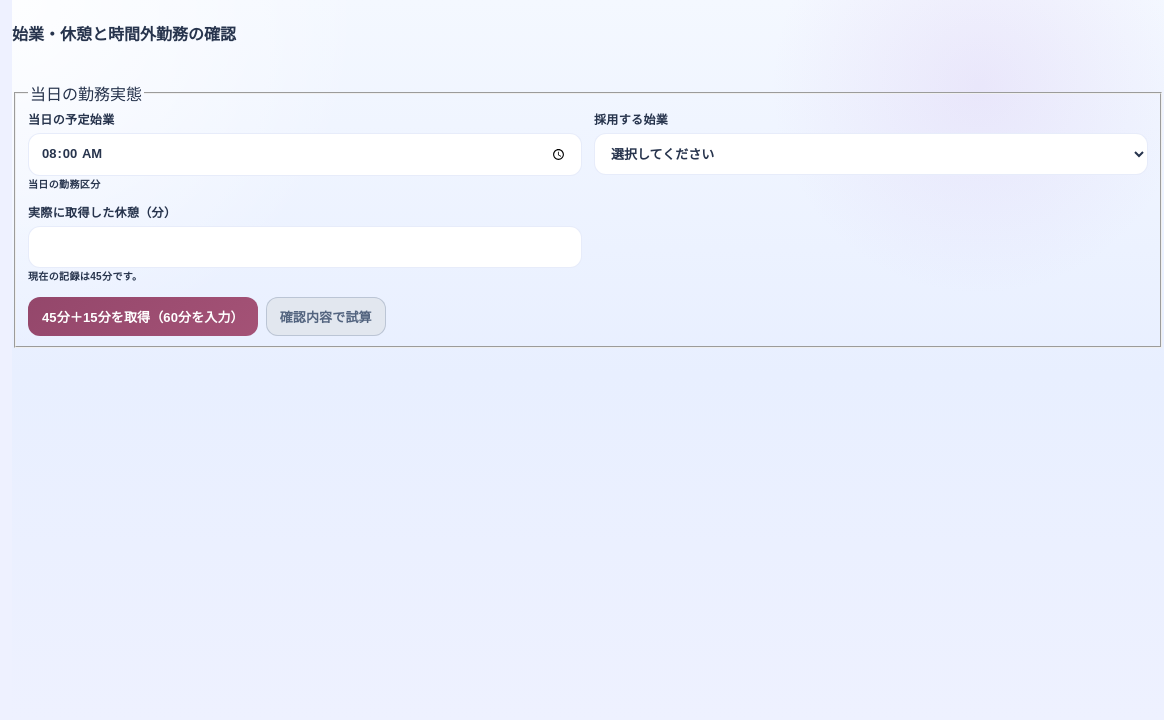
休憩不足の日次確認 › 試算後の入力変更で確認を取り消し、古いトークンで保存できない
This screenshot has width=1164, height=720.
Select "予定・原打刻の計算ルールを使う" in the dropdown labelled "採用する始業" at (871, 154), box [594, 133, 1148, 175]
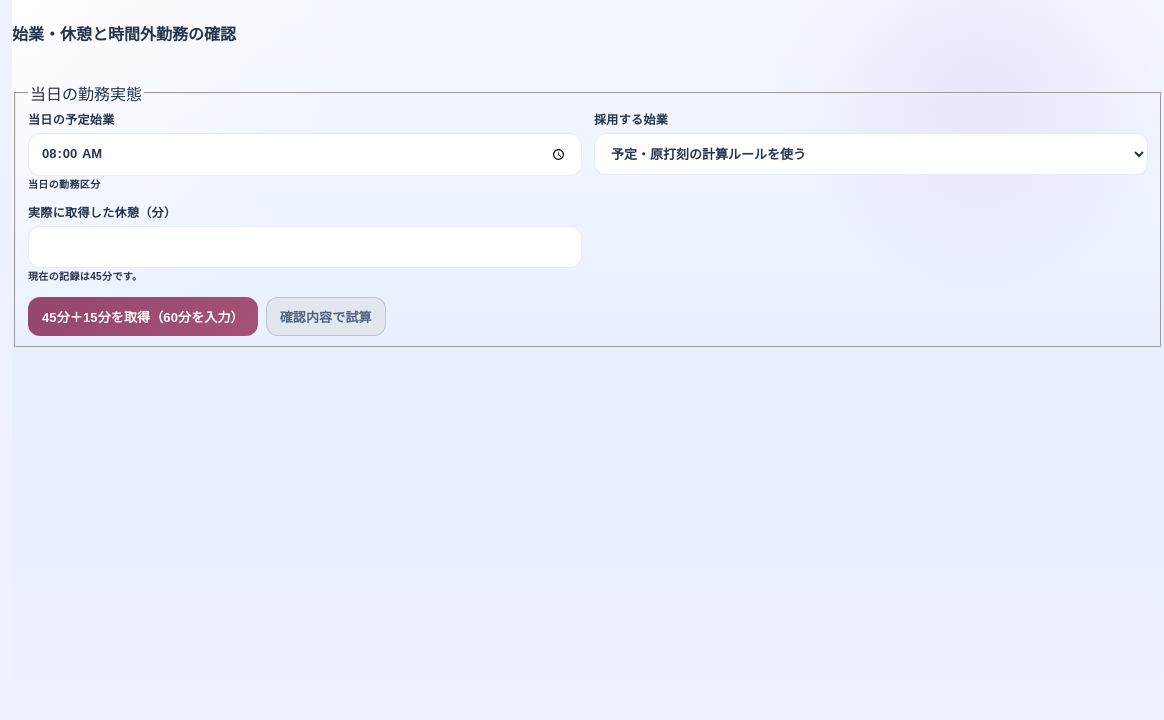
Click the button "45分＋15分を取得（60分を入力）" at (143, 316), box [28, 297, 258, 336]
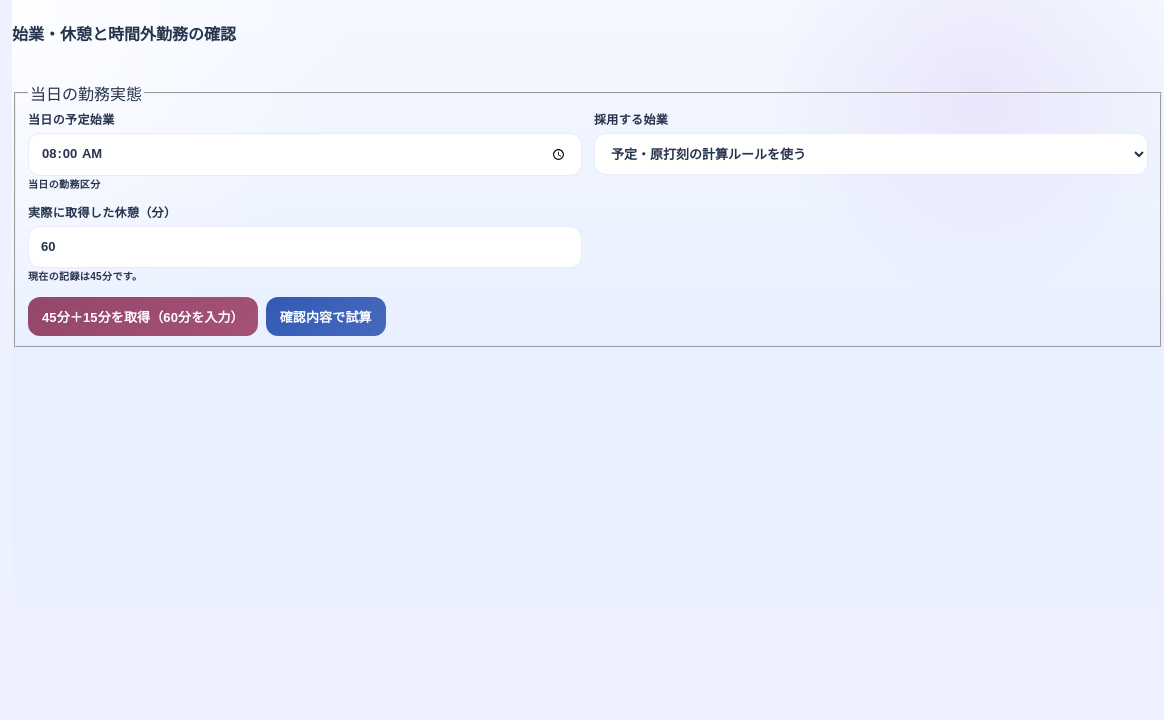
Click the button "確認内容で試算" at (326, 316), box [266, 297, 386, 336]
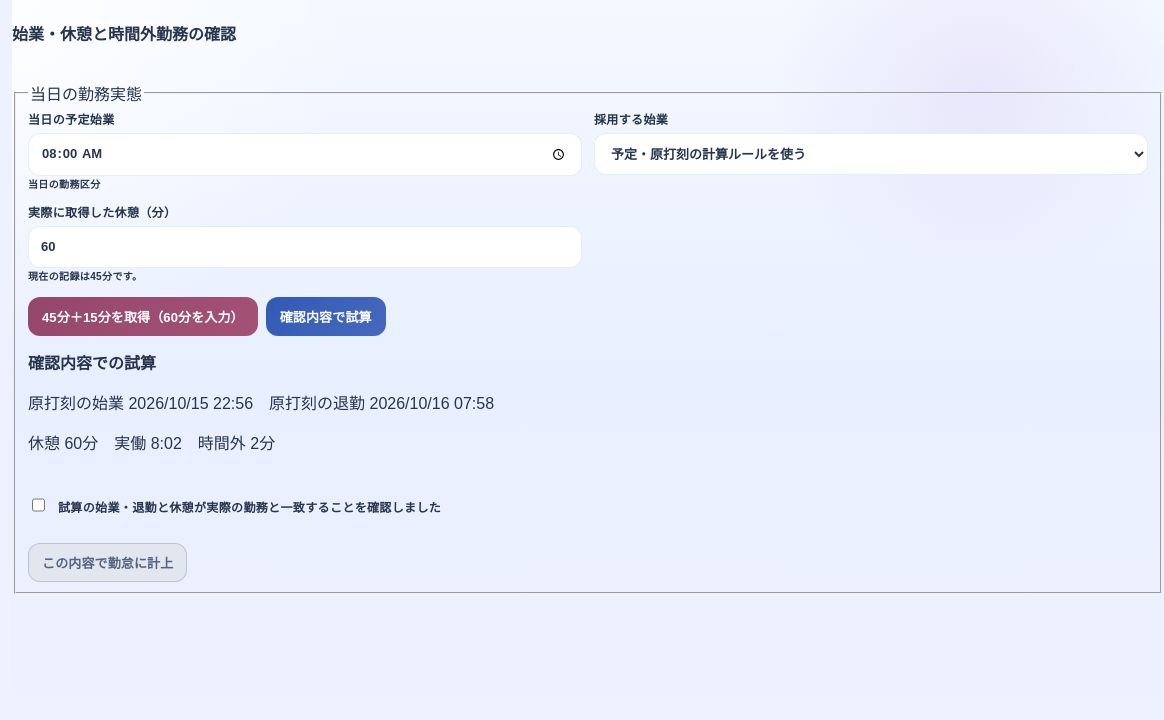
Click the checkbox labelled "試算の始業・退勤と休憩が実際の勤務と一致することを確認しました" at (38, 505), box [32, 484, 45, 526]
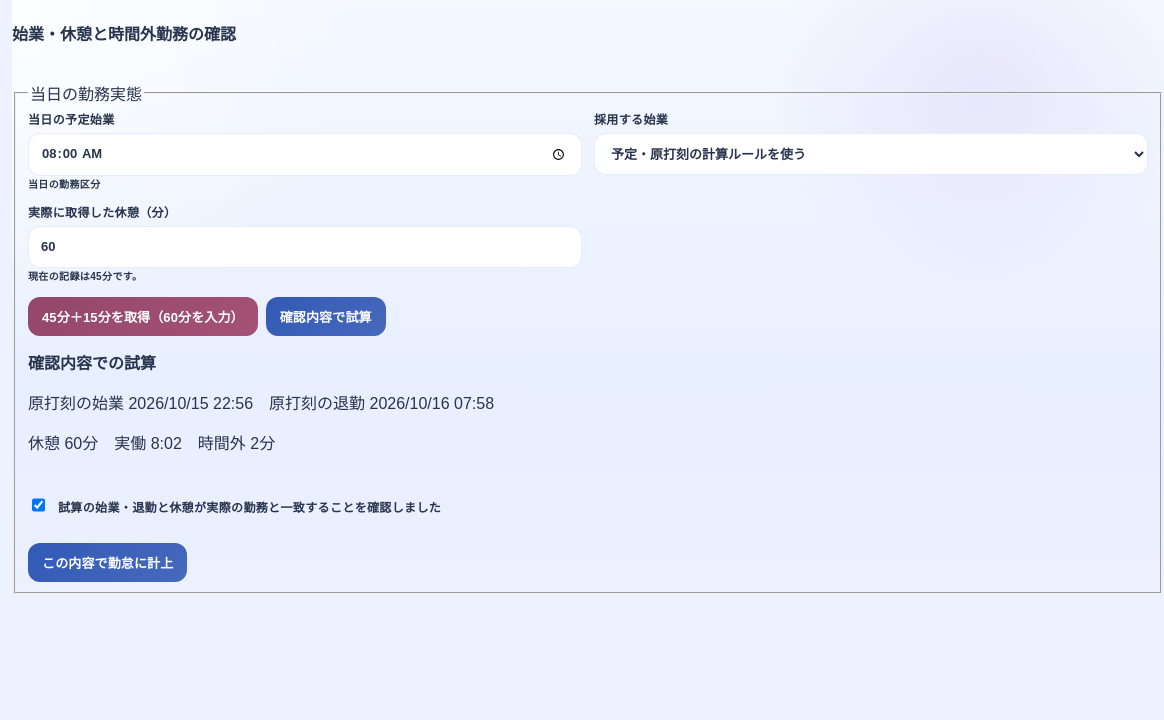
Replace the text in the number field labelled "実際に取得した休憩（分） 現在の記録は45分です。" with "50" at (305, 247), box [28, 226, 582, 268]
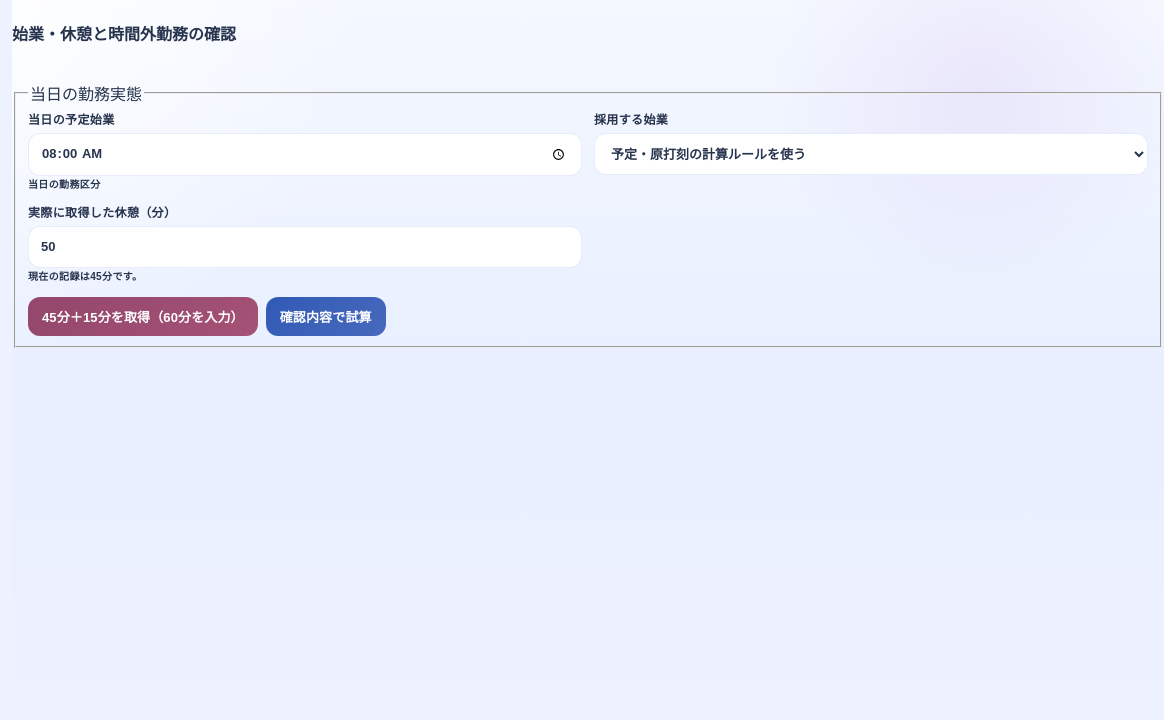
Now the button "この内容で勤怠に計上" is gone
